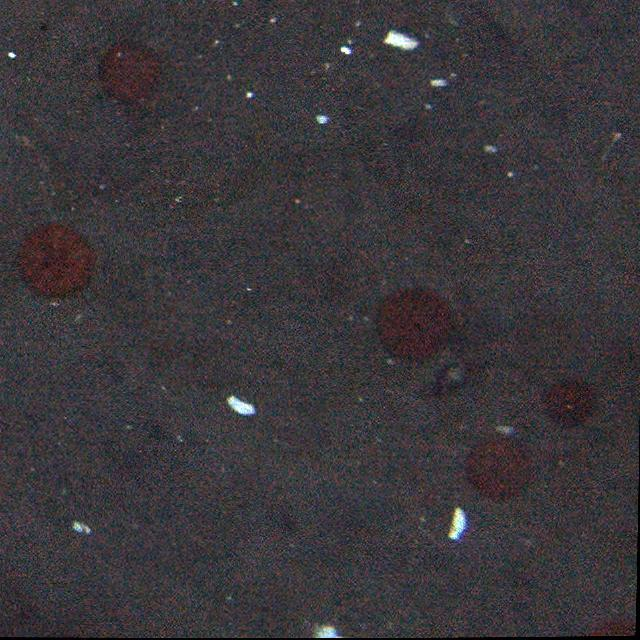whelk: (437, 360, 473, 392)
